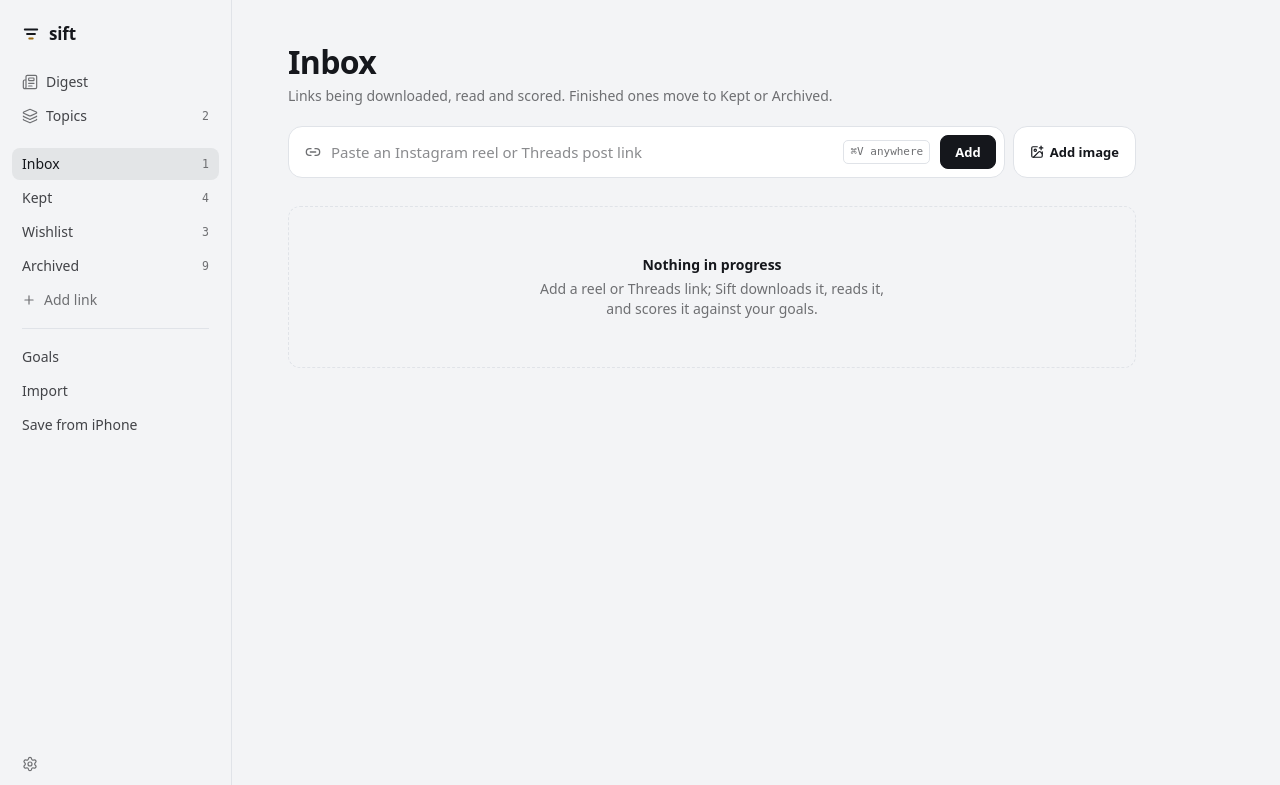
it: roadmap › opens from the settings menu, which also holds the theme
The width and height of the screenshot is (1280, 785).
Click the button named "Settings".
click(30, 764)  # box x1=14 y1=748 x2=46 y2=780
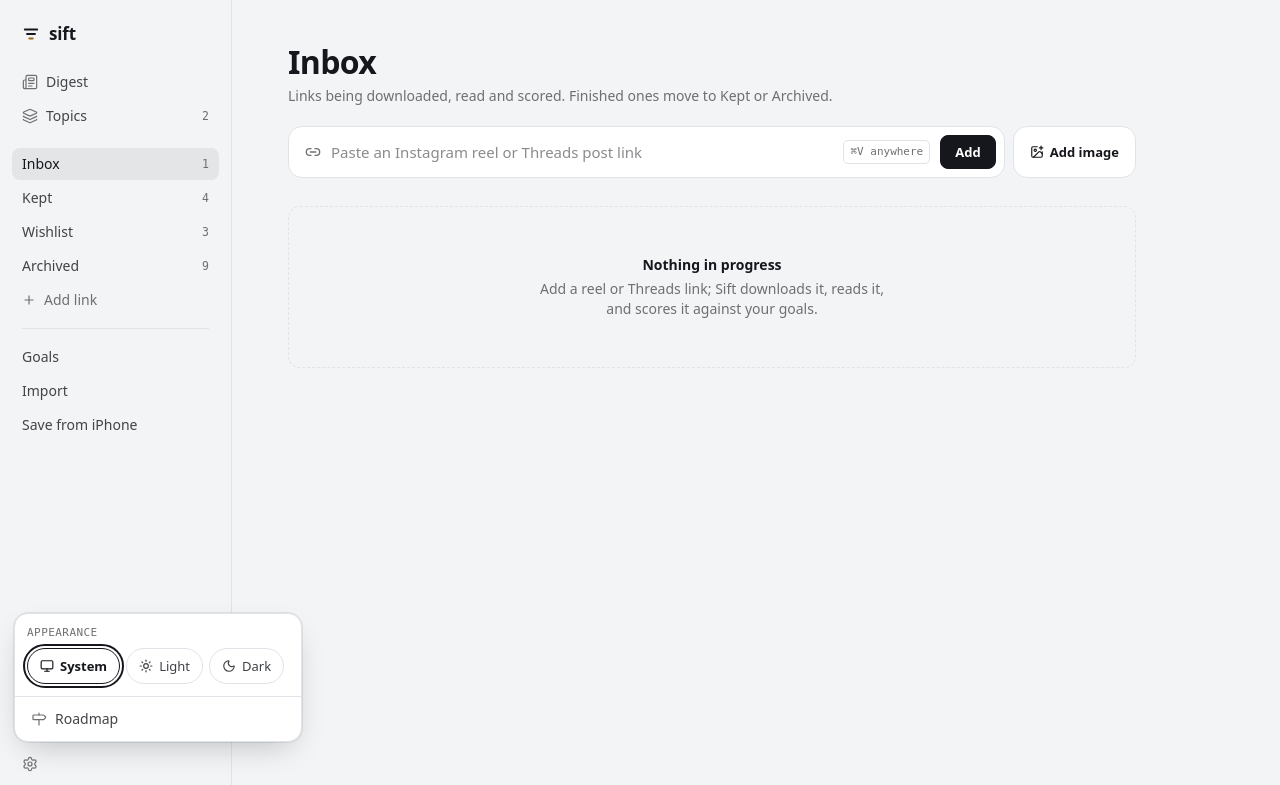
Check: the radio button labelled "System" is checked, box x1=27 y1=648 x2=120 y2=684
Click the link "Roadmap".
click(75, 718)  # box x1=31 y1=709 x2=118 y2=728
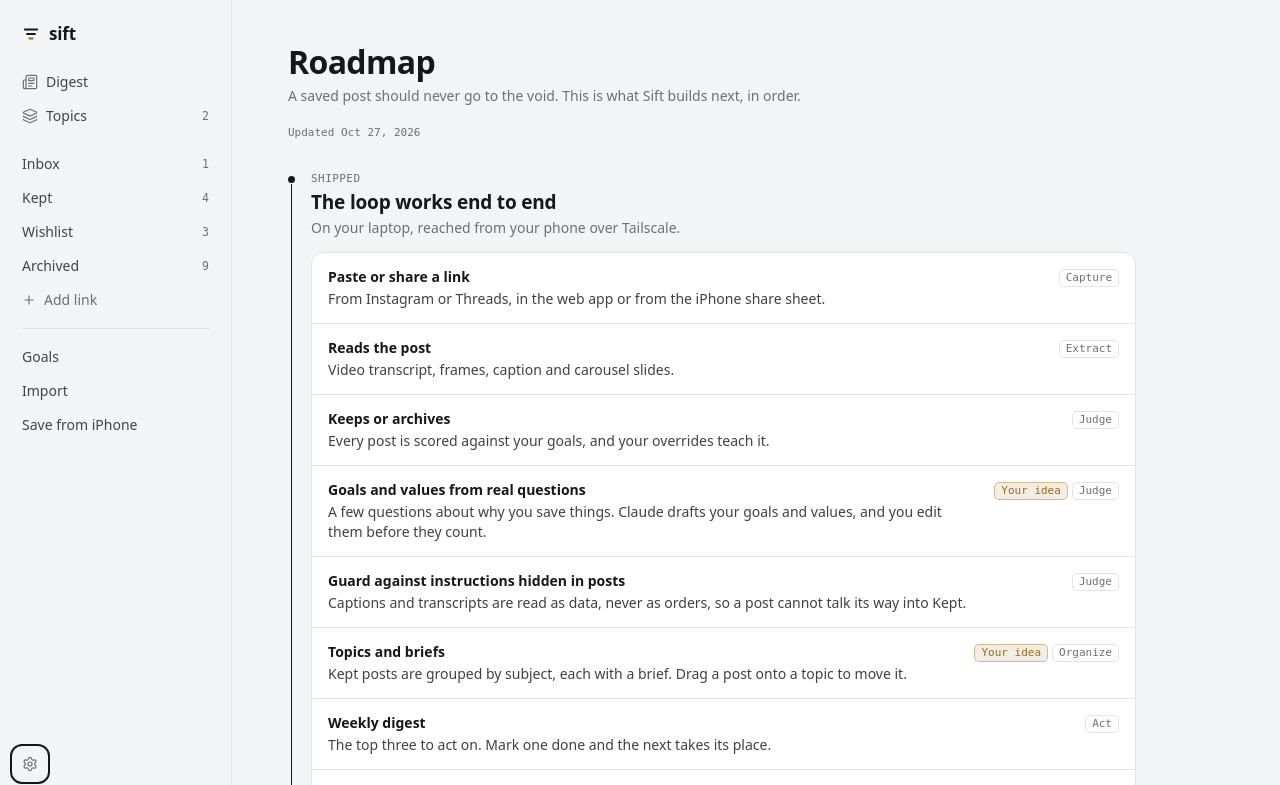
Check: the heading "Roadmap" is shown, box x1=288 y1=40 x2=435 y2=83
Check: the dialog is gone
